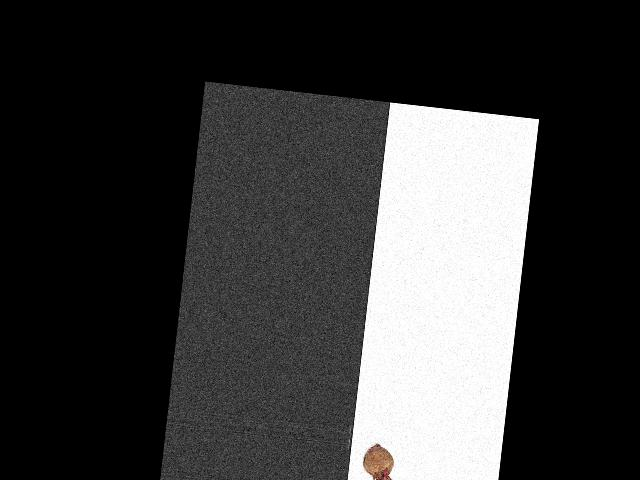beet: (358, 442, 405, 480)
